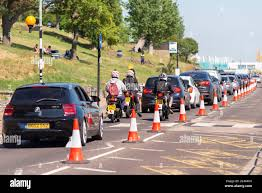car: (4, 82, 104, 140), (142, 77, 187, 111), (183, 72, 219, 99), (179, 75, 201, 106)
cone: (61, 118, 91, 164), (122, 110, 143, 144), (148, 104, 166, 134), (175, 98, 189, 124), (197, 95, 207, 116), (212, 93, 220, 111), (222, 89, 229, 107), (233, 87, 238, 103)
